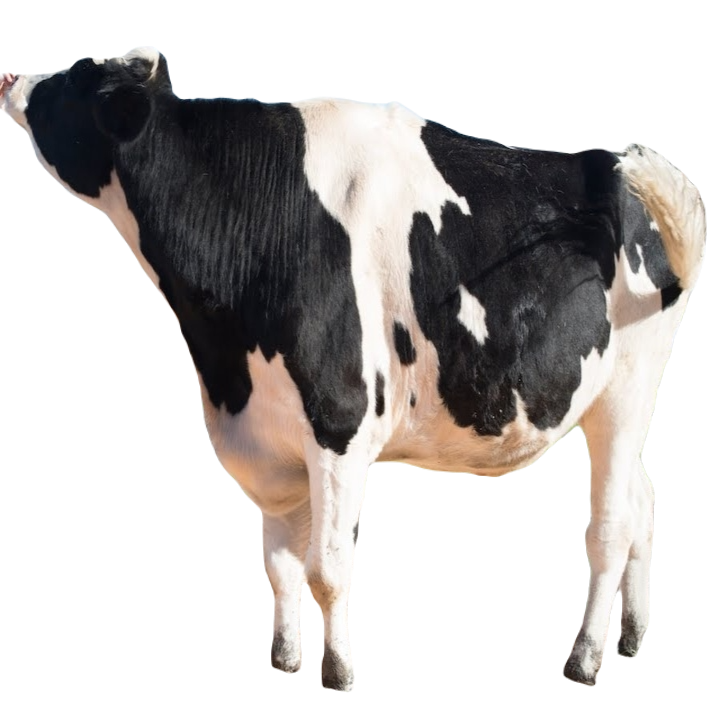Cow: (0, 49, 706, 692)
